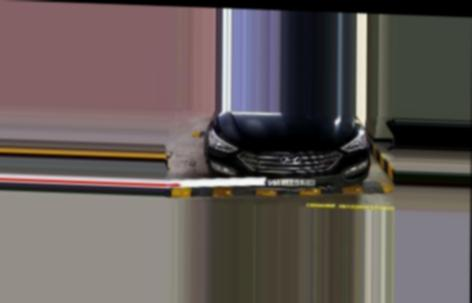License_Plate: (267, 177, 317, 190)
